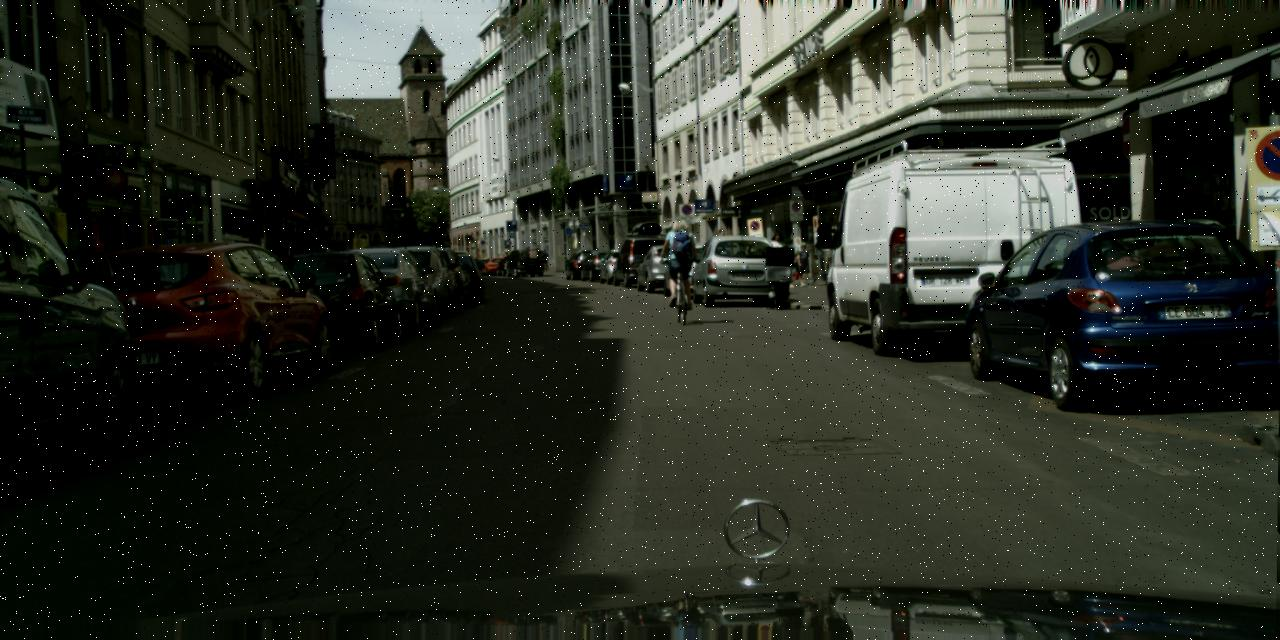ped: (60, 245, 96, 333), (663, 219, 698, 307), (650, 10, 658, 188), (769, 249, 793, 308), (768, 233, 788, 282), (794, 242, 811, 283), (713, 229, 729, 269), (788, 250, 804, 288)
